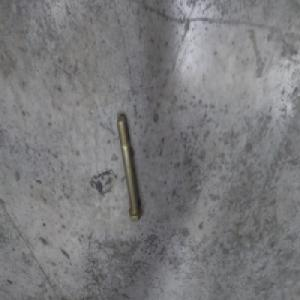Bolt: (115, 112, 141, 221)
